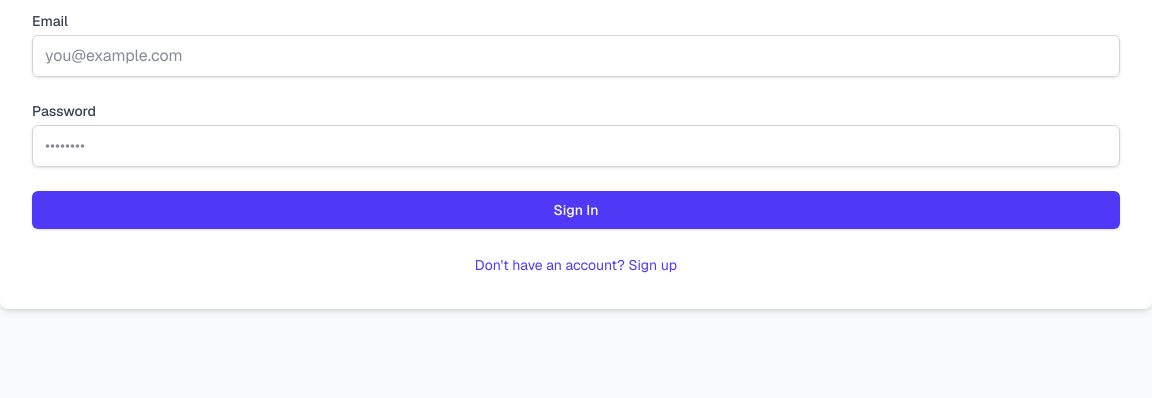
it: LoginForm › should handle successful sign up
Switch to sign up mode
Click the button "Don't have an account? Sign up": (576, 265) [475, 255, 677, 275]
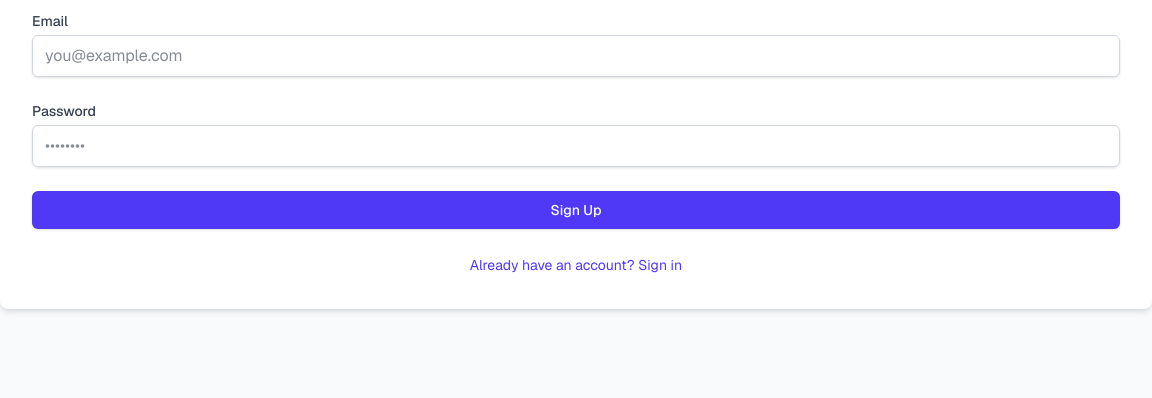
In the field labelled "Email": (576, 56) [32, 35, 1120, 77], type "newuser@example.com"
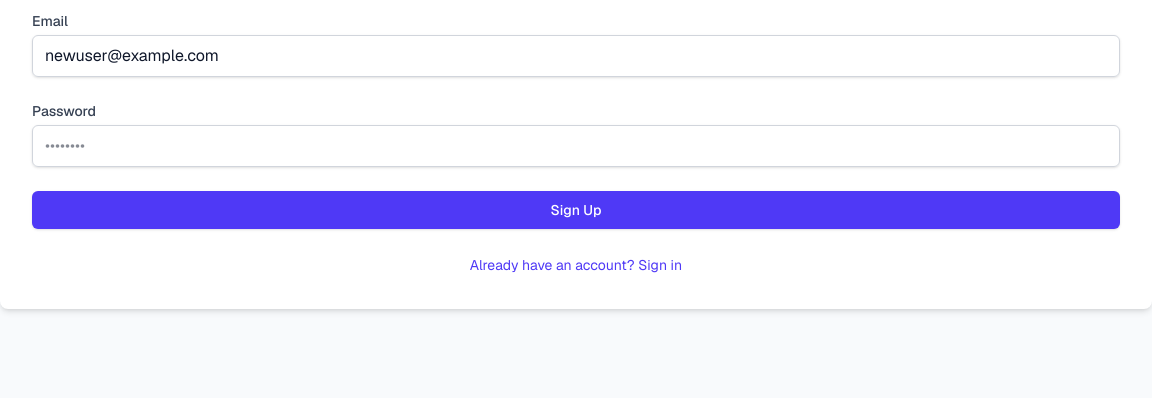
In the password field labelled "Password": (576, 146) [32, 125, 1120, 167], type "password123"
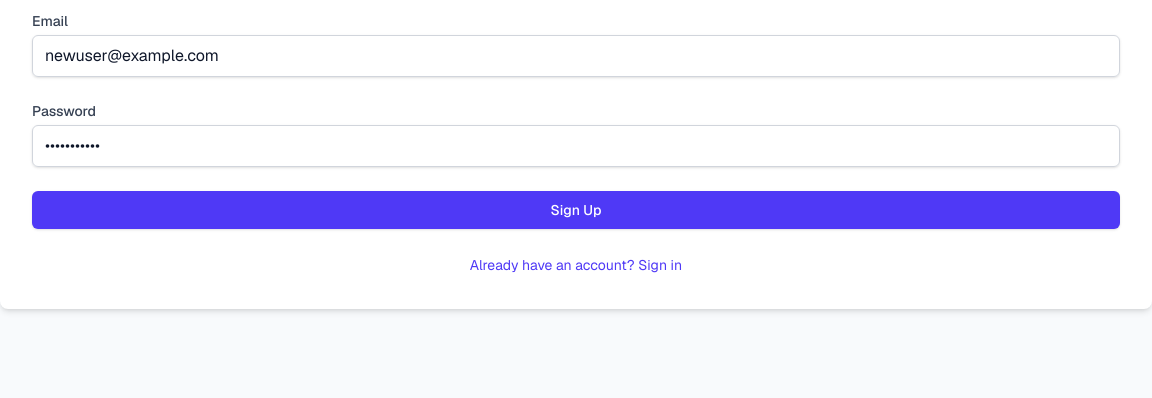
Click the button "Sign Up": (576, 210) [32, 191, 1120, 229]
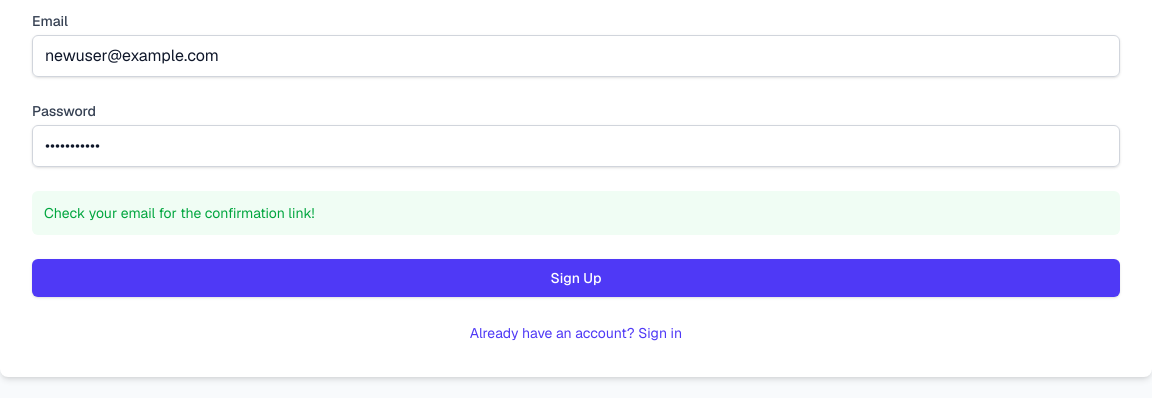
Expected: the text "Check your email for the confirmation link!" is shown, [32, 191, 1120, 235]
